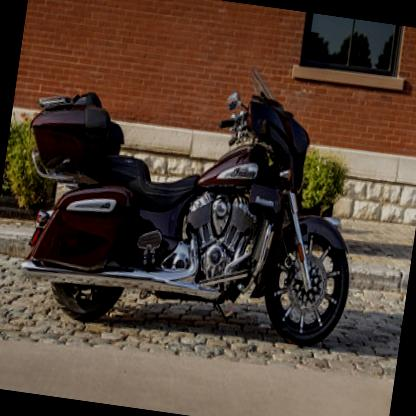motorcycle: (6, 42, 376, 356)
